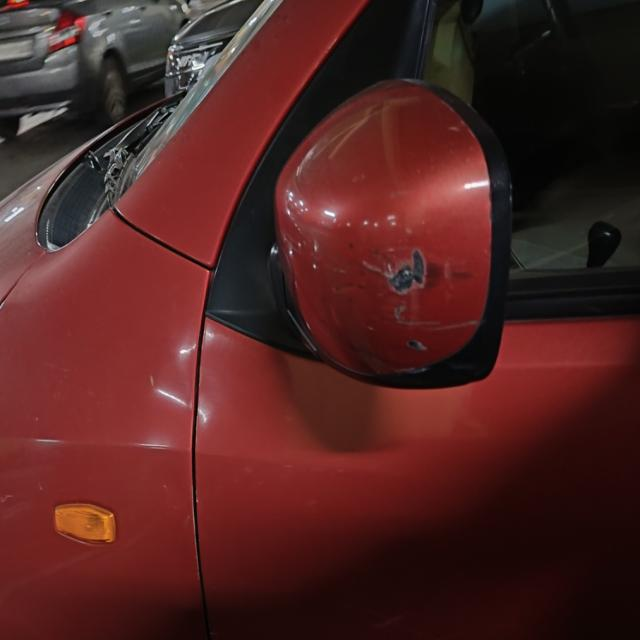scratch: (353, 221, 475, 371)
